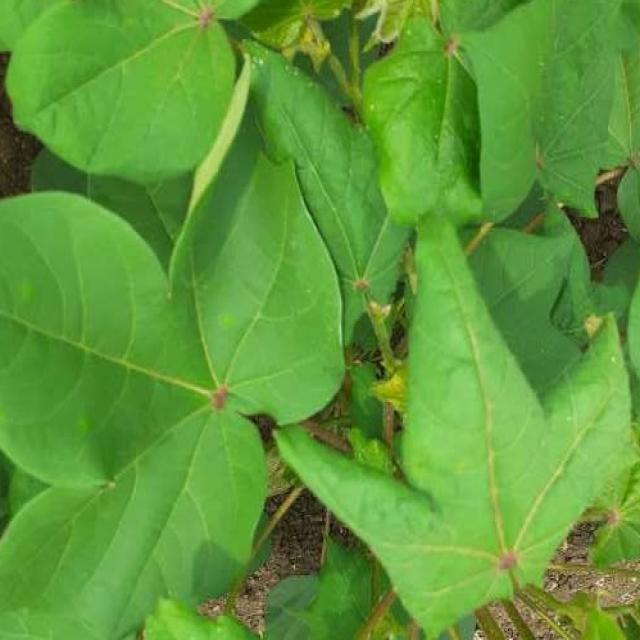Healthy Leaf: (92, 31, 625, 464)
